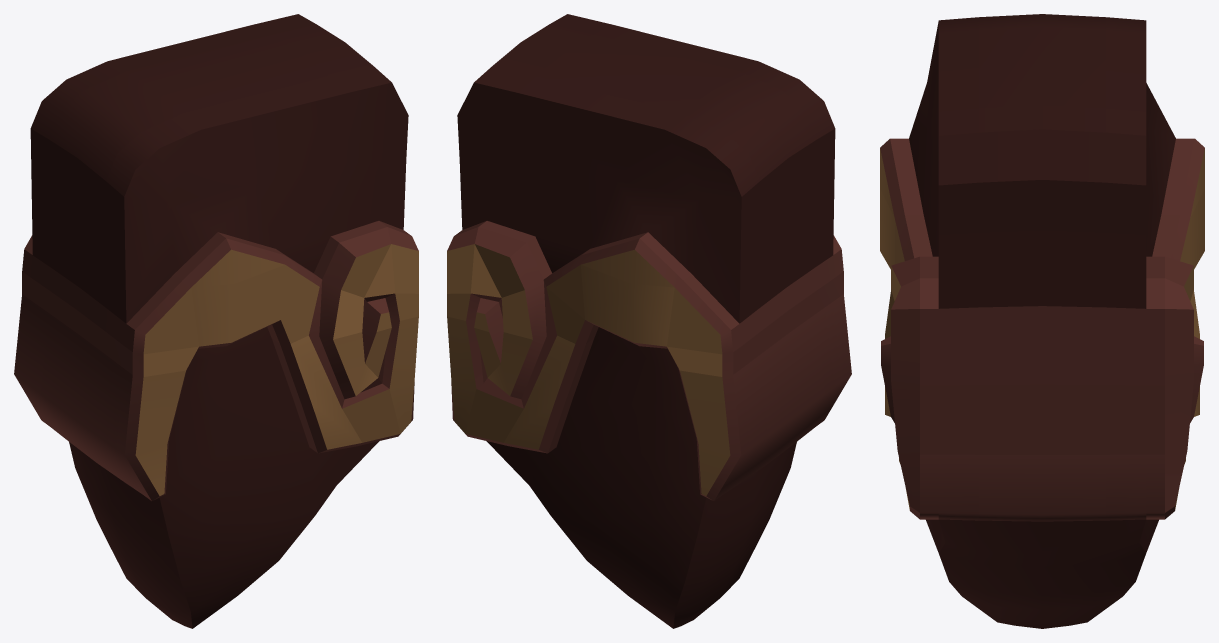
Rendered from SM_pietra_5.fbx.
3 renders of one model, left to right at view 1: azimuth 30°, elevation 25°; view 2: azimuth 150°, elevation 25°; view 3: azimuth 270°, elevation 25°, orthographic. The views are drawn at different scales.
Parts seen in each view (by area): view 1: SM_pietra_5; view 2: SM_pietra_5; view 3: SM_pietra_5.
Part boxes in pixels (bbox=[...]): SM_pietra_5: bbox=[14, 14, 418, 628]; SM_pietra_5: bbox=[447, 14, 851, 628]; SM_pietra_5: bbox=[880, 14, 1204, 628].
Bounding box in the file's own units: 935 × 1637 × 812.
